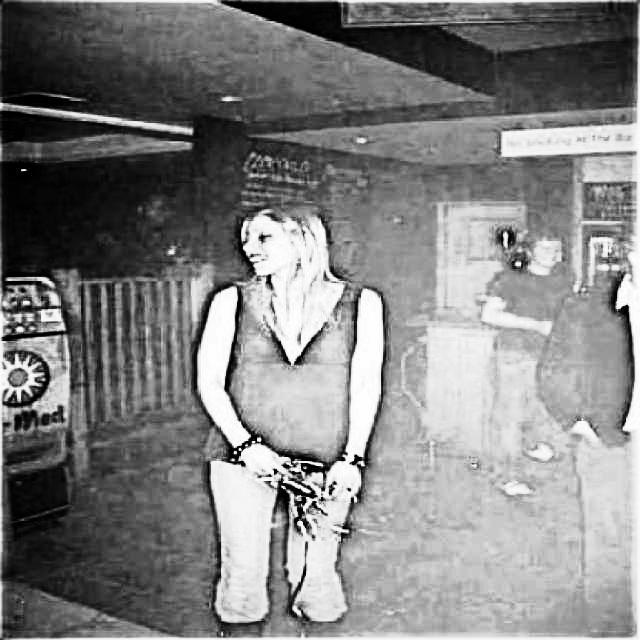Person: (187, 201, 383, 640), (473, 223, 578, 500)
